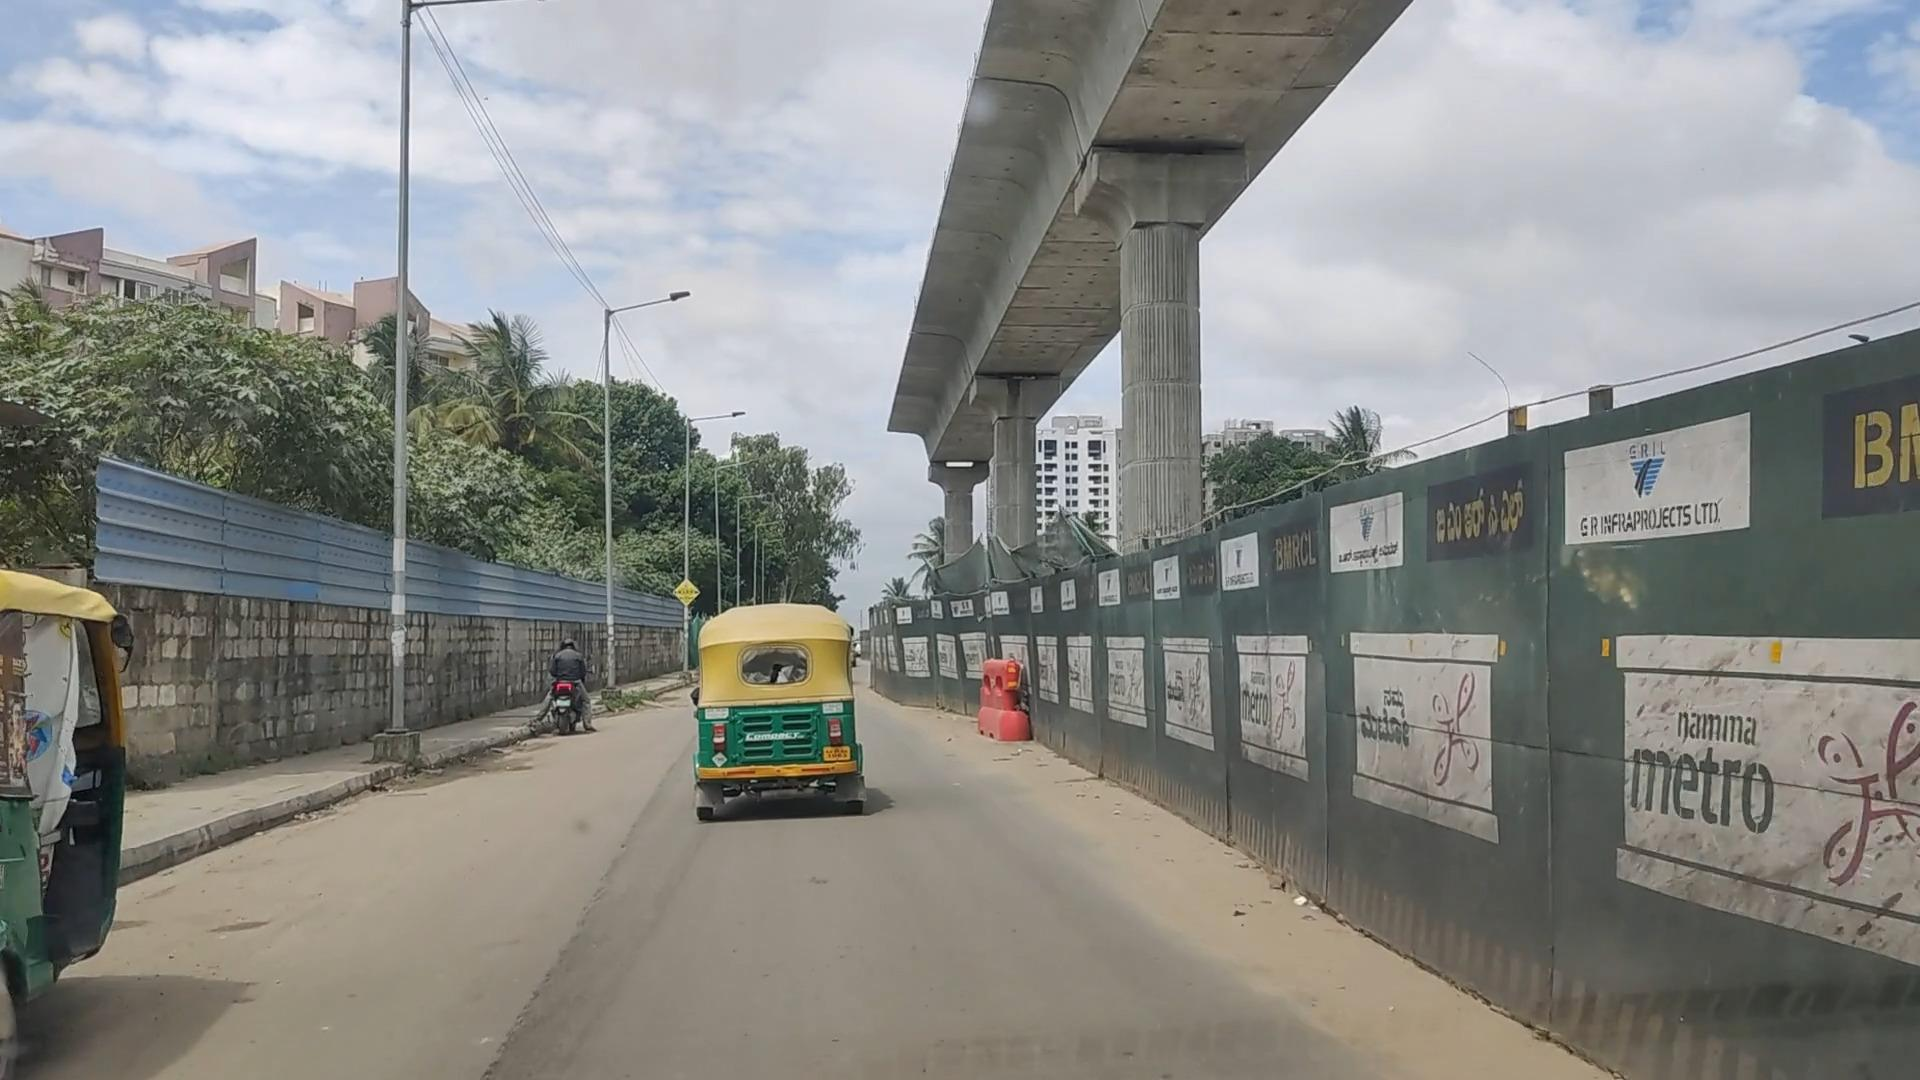LMV: (0, 543, 157, 1075), (669, 595, 870, 841)
